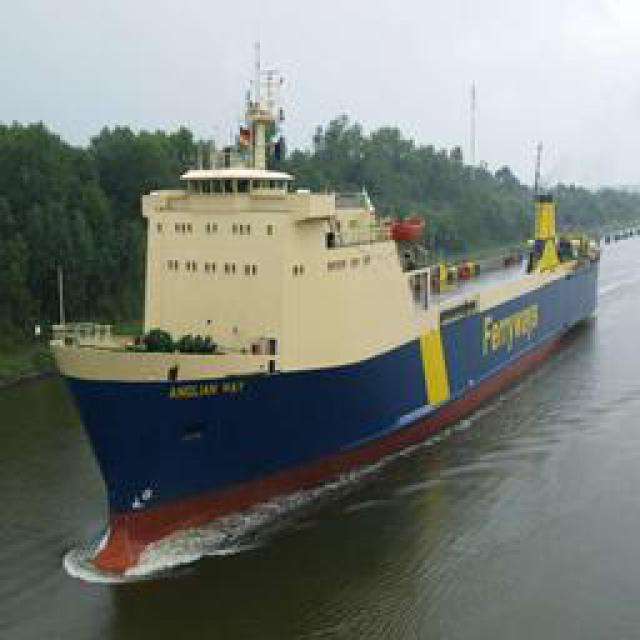Ship: (36, 76, 606, 599)
